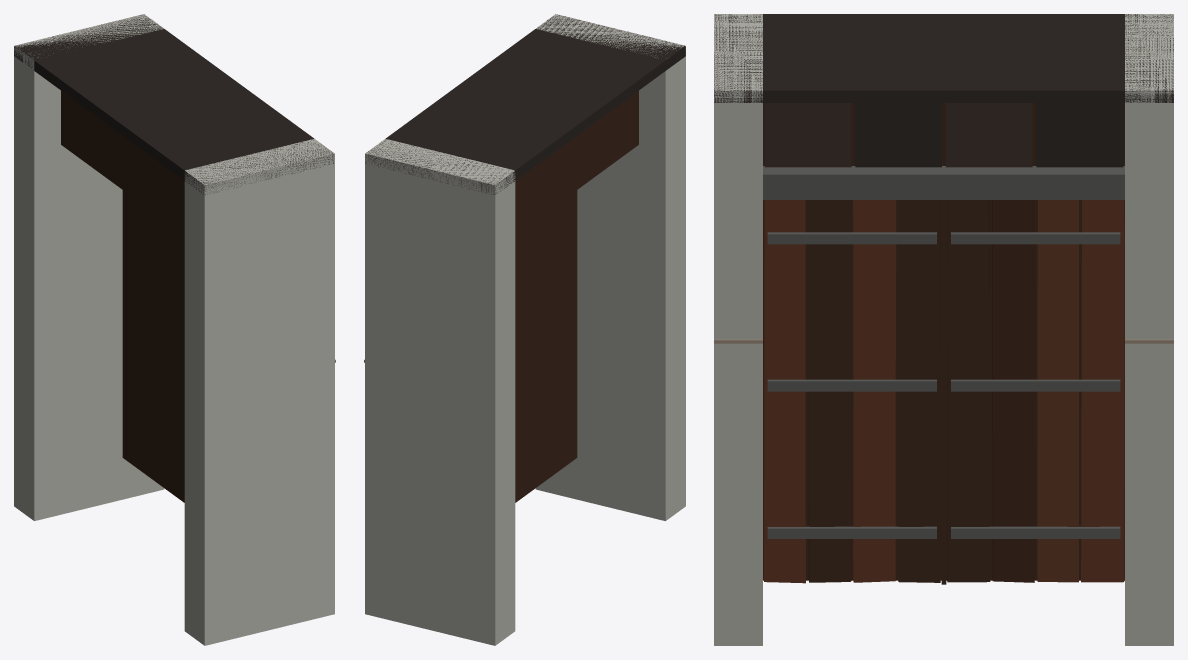
The model's file is fort_yard_gate.glb.
3 views of the same model, side by side, from view 1: azimuth 30°, elevation 25°; view 2: azimuth 150°, elevation 25°; view 3: azimuth 270°, elevation 25° (orthographic). The views are drawn at different scales.
Parts seen in each view (by area): view 1: fort_yard_gate; view 2: fort_yard_gate; view 3: fort_yard_gate.
Part boxes in pixels (x1,y1,x2,y2): fort_yard_gate: (14,14,335,645); fort_yard_gate: (364,14,685,645); fort_yard_gate: (714,14,1173,645).
Size of the model in its own units: 3.93 by 13.2 by 9.9.
